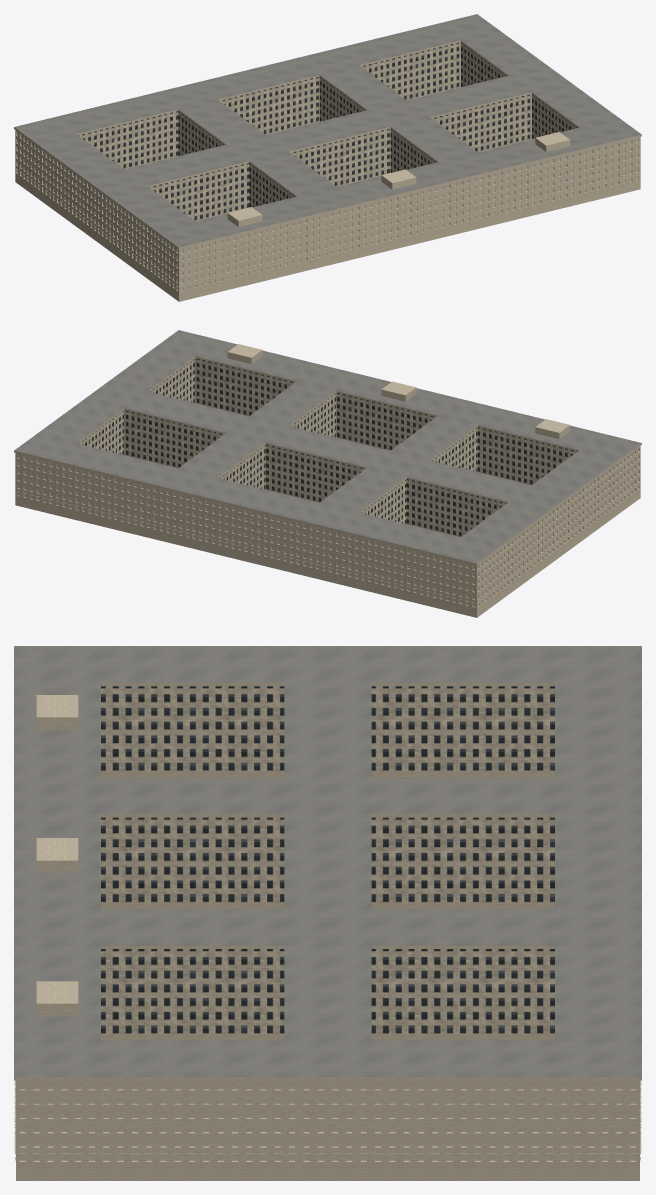
The model's file is state_dept.glb.
3 renders of one model, top to bottom at view 1: azimuth 30°, elevation 25°; view 2: azimuth 150°, elevation 25°; view 3: azimuth 270°, elevation 25°, orthographic. The views are drawn at different scales.
Parts seen in each view (by area): view 1: state_dept; view 2: state_dept; view 3: state_dept.
Boxes of the visible parts, x1,y1,x2,y2 form: state_dept: [14, 14, 641, 301]; state_dept: [14, 330, 641, 617]; state_dept: [14, 646, 641, 1180].
Bounding box in the file's own units: 270 × 34.08 × 166.
4 materials, 4 textured.
